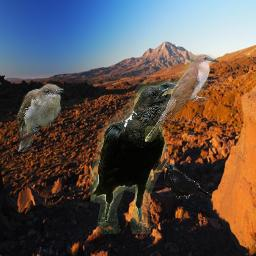Crow: (90, 79, 184, 234), (163, 163, 212, 199)
Cuckoo: (145, 54, 220, 142), (16, 83, 64, 152)
